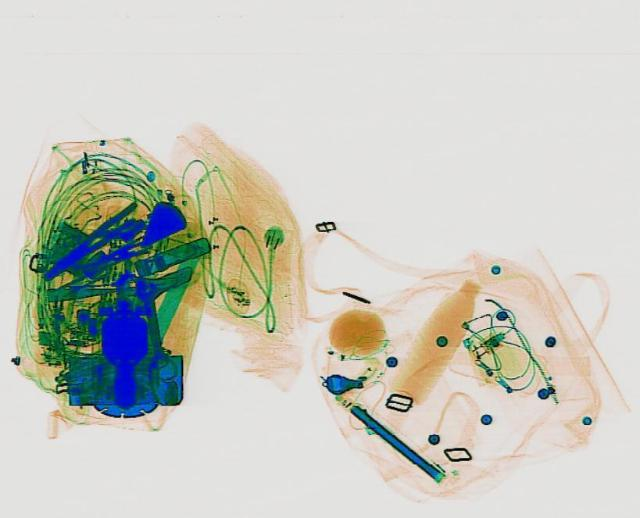Pliers: (34, 200, 148, 282)
